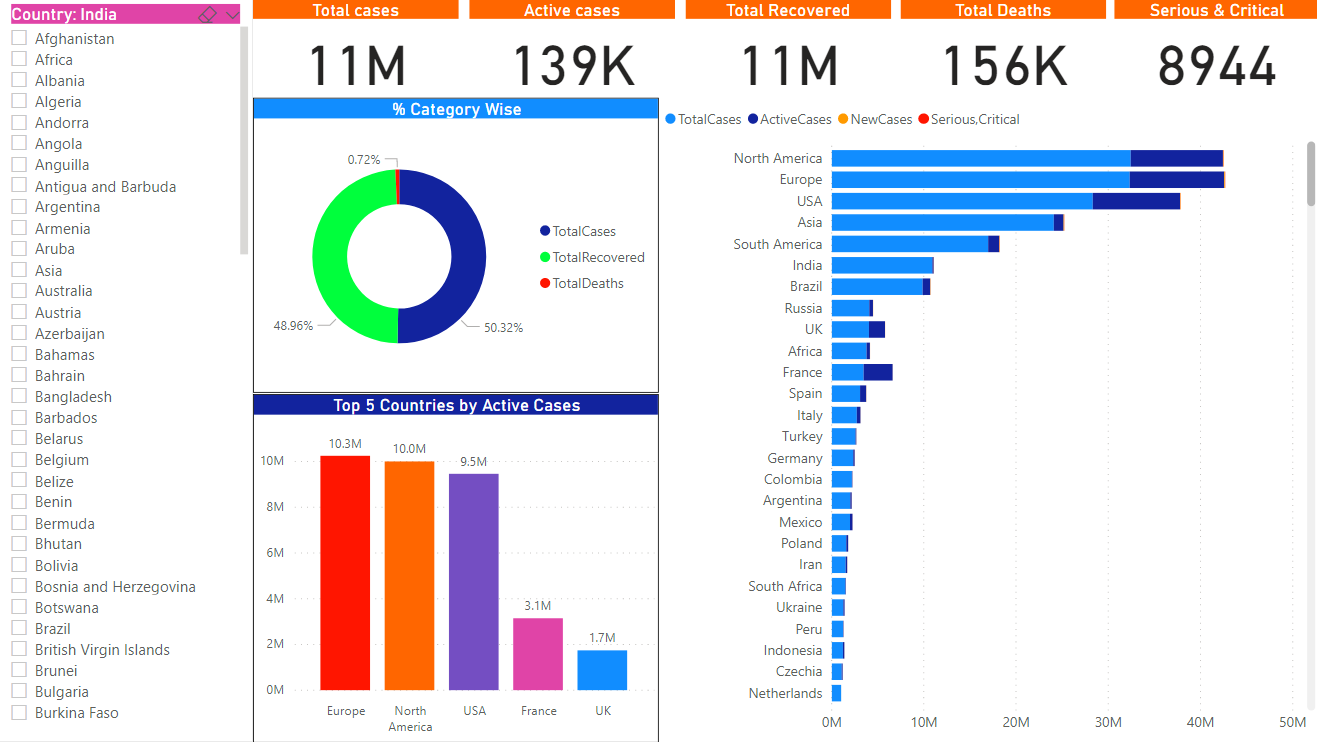

What the dashboard file says about the page in this screenshot:
{"tool":"powerbi","page":{"name":"Page 1","canvas":[1280,720],"ordinal":0},"visuals":[{"type":"slicer","fields":{"Values":["Table 2.Country,Other"]},"box":[0,0,247.2,719.7],"z":0},{"type":"card","title":"Total cases","fields":{"Values":["Sum(Table 2.TotalCases)"]},"box":[247.2,0,199.1,96.1],"z":1000},{"type":"card","title":"Active cases","fields":{"Values":["Sum(Table 2.ActiveCases)"]},"box":[456,0,199.1,96.1],"z":2000},{"type":"card","title":"Total Recovered","fields":{"Values":["Sum(Table 2.TotalRecovered)"]},"box":[666.1,0,199.1,96.1],"z":3000},{"type":"card","title":"Total Deaths","fields":{"Values":["Sum(Table 2.TotalDeaths)"]},"box":[873.5,0,199.1,96.1],"z":4000},{"type":"card","title":"Serious & Critical","fields":{"Values":["Sum(Table 2.Serious,Critical)"]},"box":[1080.9,0,199.1,96.1],"z":5000},{"type":"donutChart","title":"% Category Wise","fields":{"Y":["Sum(Table 2.TotalCases)","Sum(Table 2.TotalRecovered)","Sum(Table 2.TotalDeaths)"]},"box":[247.2,96.1,392.8,285.7],"z":6000},{"type":"clusteredColumnChart","title":"Top 5 Countries by Active Cases","fields":{"Category":["Table 2.Country,Other"],"Y":["Sum(Table 2.ActiveCases)"]},"box":[247.2,381.8,392.8,337.9],"z":7000},{"type":"barChart","fields":{"Category":["Table 2.Country,Other"],"Y":["Sum(Table 2.TotalCases)","Sum(Table 2.ActiveCases)","Sum(Table 2.NewCases)","Sum(Table 2.Serious,Critical)"]},"box":[640,96.1,640,623.5],"z":8000}]}

Visuals, with their boxes in screenshot pixels (x1, y1, x2, y2), scaled from the page's 1280x720 canvas onto the 1317x742 screenshot:
slicer - Table 2.Country,Other: (0, 0, 254, 741)
"Total cases" card: (254, 0, 459, 99)
"Active cases" card: (469, 0, 674, 99)
"Total Recovered" card: (685, 0, 890, 99)
"Total Deaths" card: (899, 0, 1104, 99)
"Serious & Critical" card: (1112, 0, 1316, 99)
"% Category Wise" donutChart: (254, 99, 658, 393)
"Top 5 Countries by Active Cases" clusteredColumnChart: (254, 393, 658, 741)
barChart - Table 2.Country,Other x Sum(Table 2.TotalCases): (658, 99, 1316, 741)
